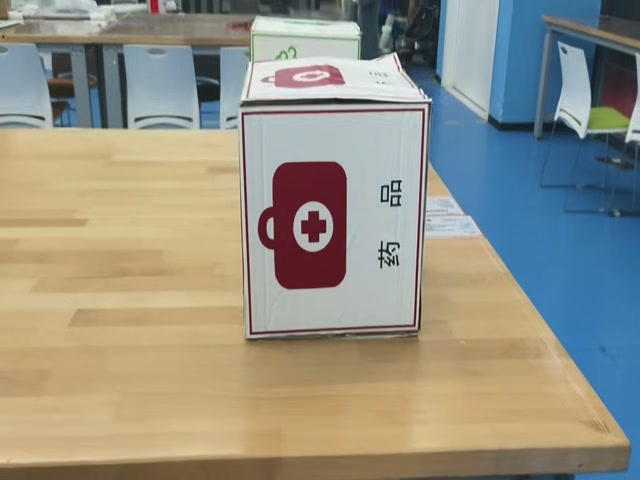Cube_food: (249, 17, 360, 39)
Cube_medicine: (242, 60, 428, 114)
